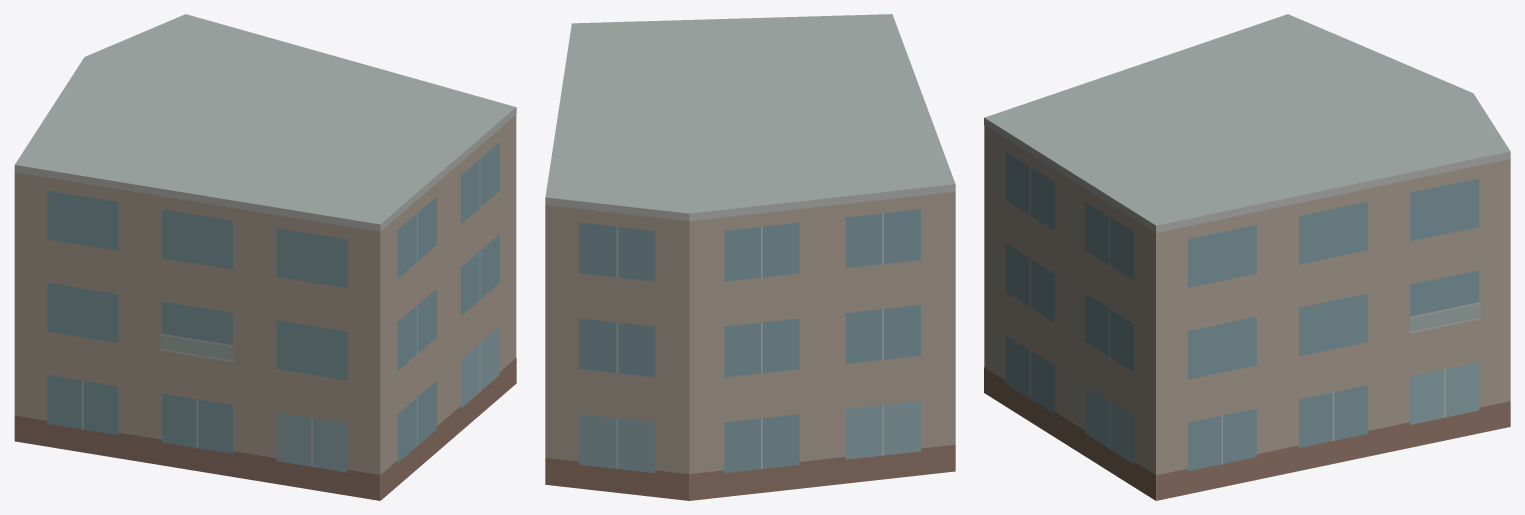
File: survey-upis-32779217.glb
3 views of the same model, side by side, from view 1: azimuth 30°, elevation 25°; view 2: azimuth 150°, elevation 25°; view 3: azimuth 270°, elevation 25° (orthographic). The views are drawn at different scales.
Parts seen in each view (by area): view 1: survey-upis-32779217.tmp; view 2: survey-upis-32779217.tmp; view 3: survey-upis-32779217.tmp.
Boxes of the visible parts, x1,y1,x2,y2 form: survey-upis-32779217.tmp: (14,14,516,500); survey-upis-32779217.tmp: (545,14,955,500); survey-upis-32779217.tmp: (984,14,1510,500).
Size of the model in its own units: 15.1 by 9.15 by 15.87.
